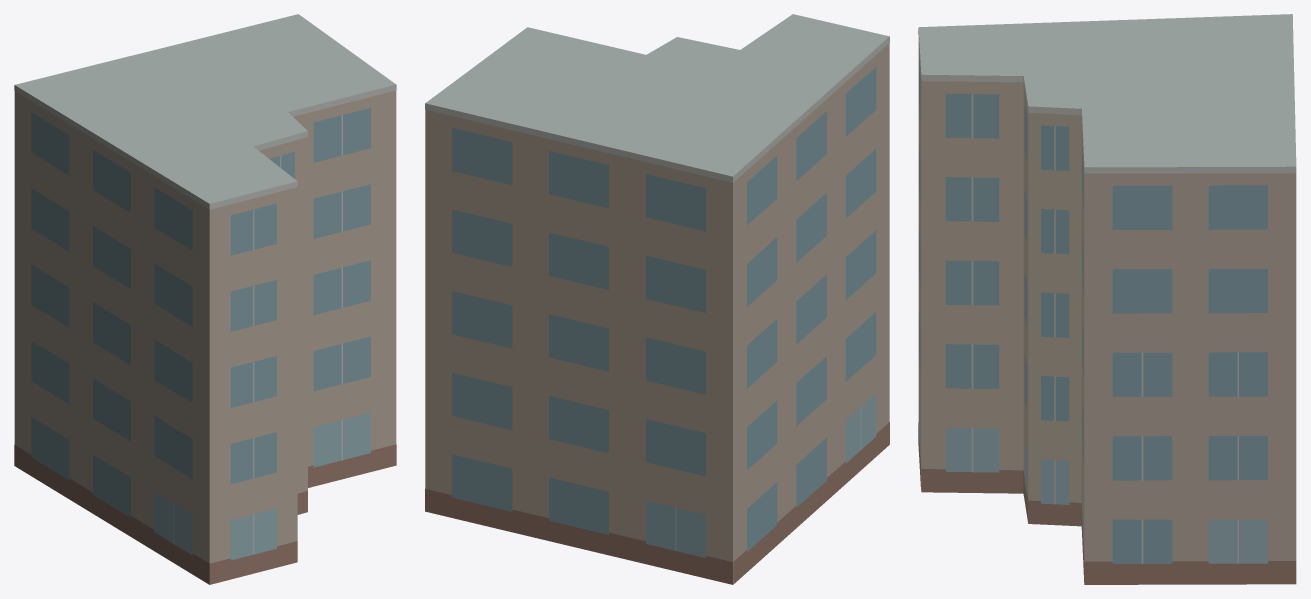
The model's file is survey-upis-32864756.glb.
3 renders of one model, left to right at view 1: azimuth 30°, elevation 25°; view 2: azimuth 150°, elevation 25°; view 3: azimuth 270°, elevation 25°, orthographic. The views are drawn at different scales.
Visible parts, largest first — view 1: survey-upis-32864756.tmp; view 2: survey-upis-32864756.tmp; view 3: survey-upis-32864756.tmp.
Boxes of the visible parts, x1,y1,x2,y2 form: survey-upis-32864756.tmp: (14,14,396,584); survey-upis-32864756.tmp: (425,14,889,584); survey-upis-32864756.tmp: (918,14,1296,584).
Bounding box in the file's own units: 12.58 × 15.95 × 13.09.
